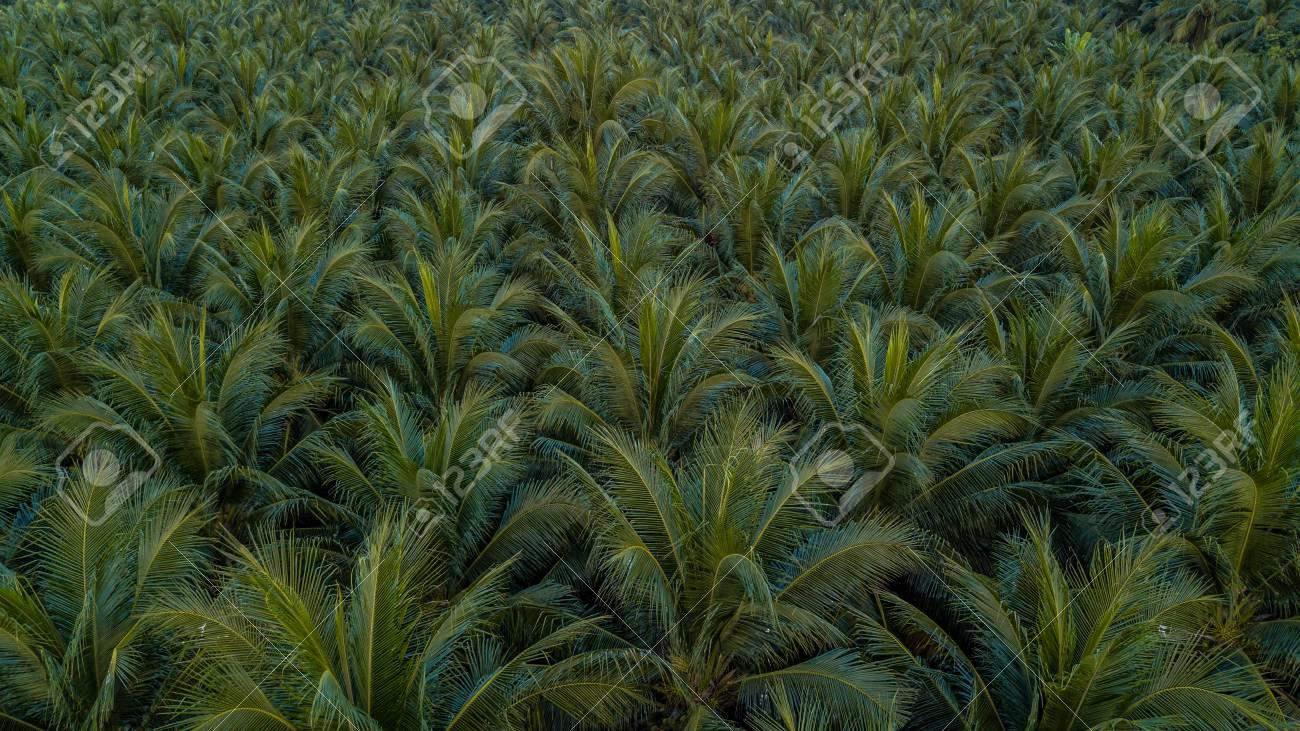coconut_tree: (533, 429, 907, 730), (177, 545, 648, 730), (936, 534, 1299, 730), (1132, 351, 1299, 589), (778, 322, 1004, 491), (83, 293, 278, 467), (1032, 202, 1216, 384), (333, 268, 558, 400), (588, 284, 749, 464), (229, 213, 355, 363), (69, 179, 191, 306), (709, 162, 817, 283), (886, 205, 1004, 305), (396, 166, 515, 262), (537, 54, 637, 143)
